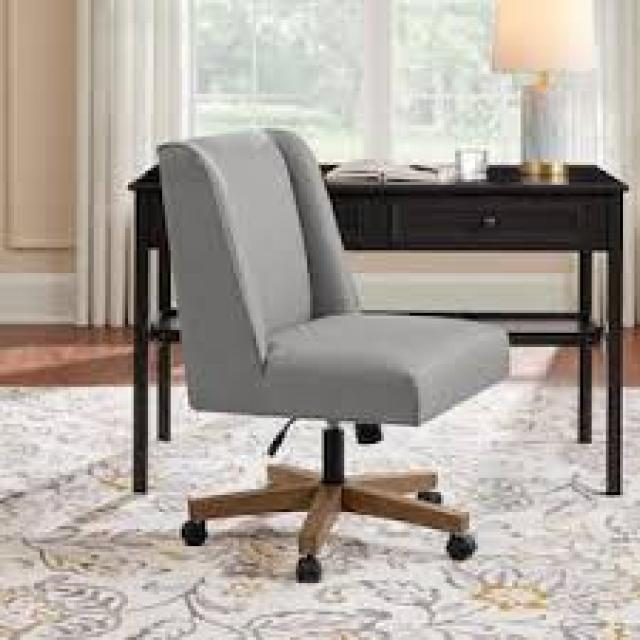chair: (8, 79, 584, 626)
